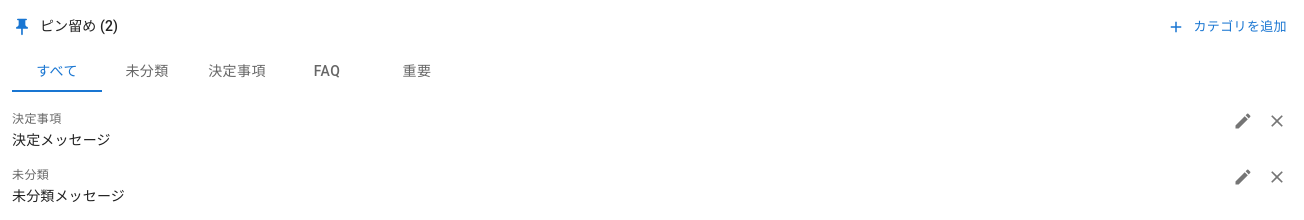
PinnedMessages › カテゴリタブによる絞り込み › 未分類タブを選ぶとカテゴリ未設定のピンだけを表示する
The image size is (1304, 220).
Click the tab "未分類": (147, 72) [102,51,192,92]
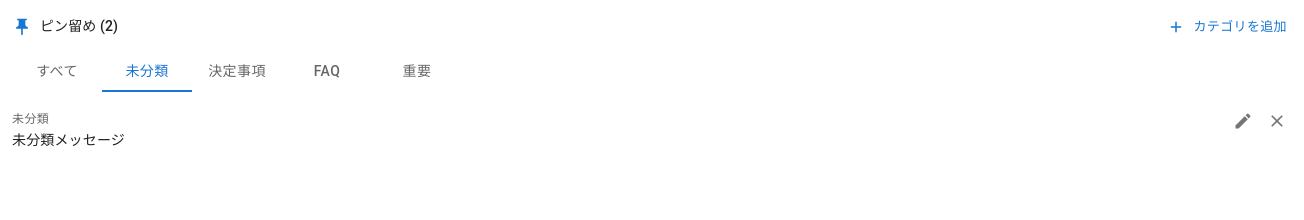
Expected: the text "未分類メッセージ" is shown, [12,132,125,148]
Expected: the text "決定メッセージ" is gone
